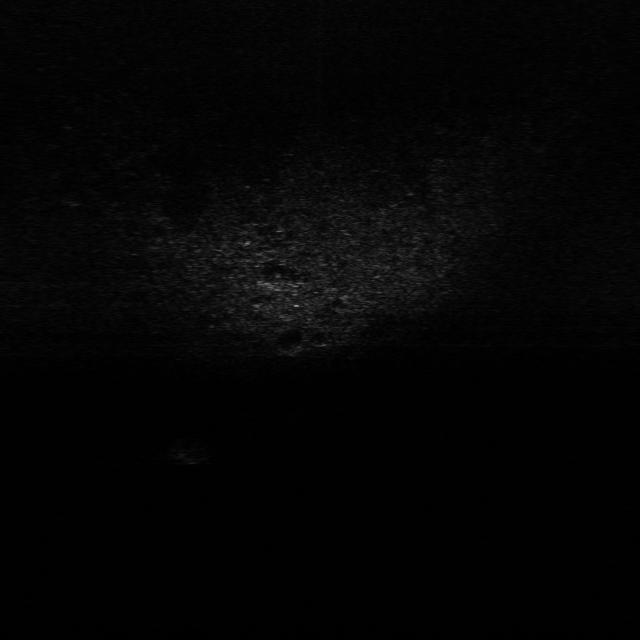circle cage: (158, 434, 214, 466)
